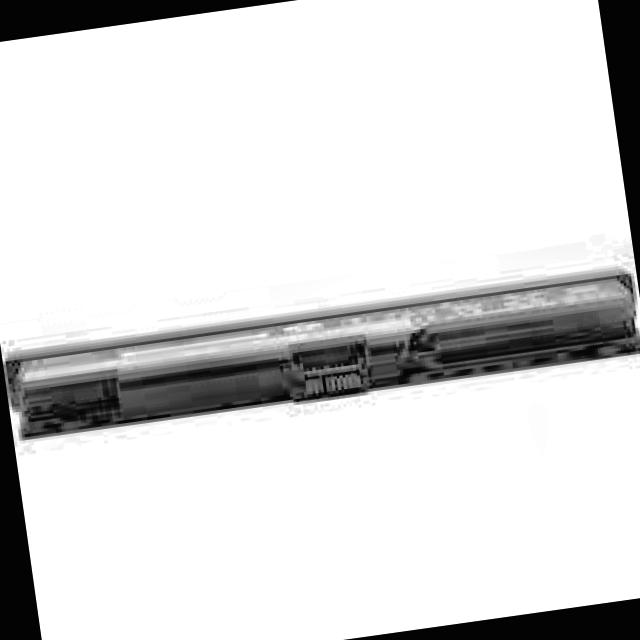Battery: (2, 269, 640, 438)
